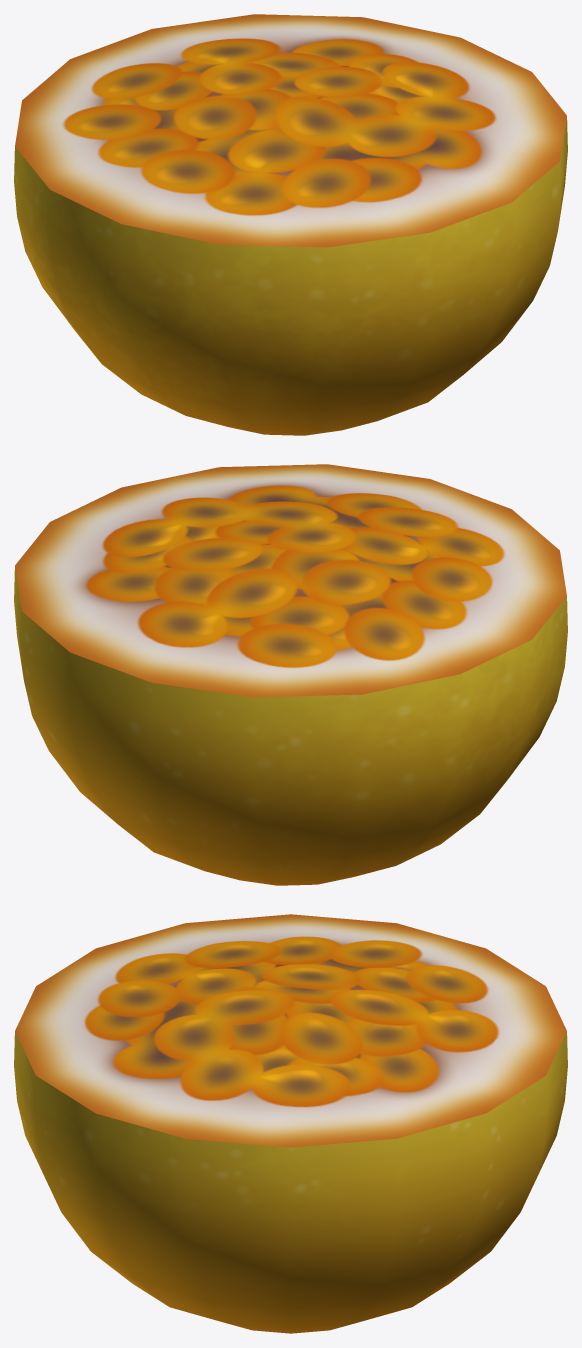
File: PassionFruit_Yellow_Half.fbx
The picture shows the model from 3 angles, top to bottom: view 1: azimuth 30°, elevation 25°; view 2: azimuth 150°, elevation 25°; view 3: azimuth 270°, elevation 25°; orthographic projection.
Visible parts, largest first — view 1: PassionFruit_Yellow_Half; view 2: PassionFruit_Yellow_Half; view 3: PassionFruit_Yellow_Half.
Part boxes in pixels (x1=…): PassionFruit_Yellow_Half: x1=14, y1=14, x2=567, y2=435; PassionFruit_Yellow_Half: x1=14, y1=464, x2=567, y2=885; PassionFruit_Yellow_Half: x1=14, y1=914, x2=567, y2=1333.
Bounding box in the file's own units: 33.06 × 20.49 × 33.06.
